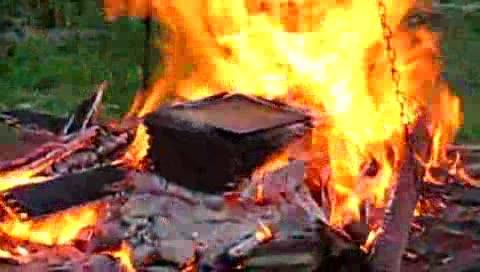fire: (157, 9, 427, 212)
